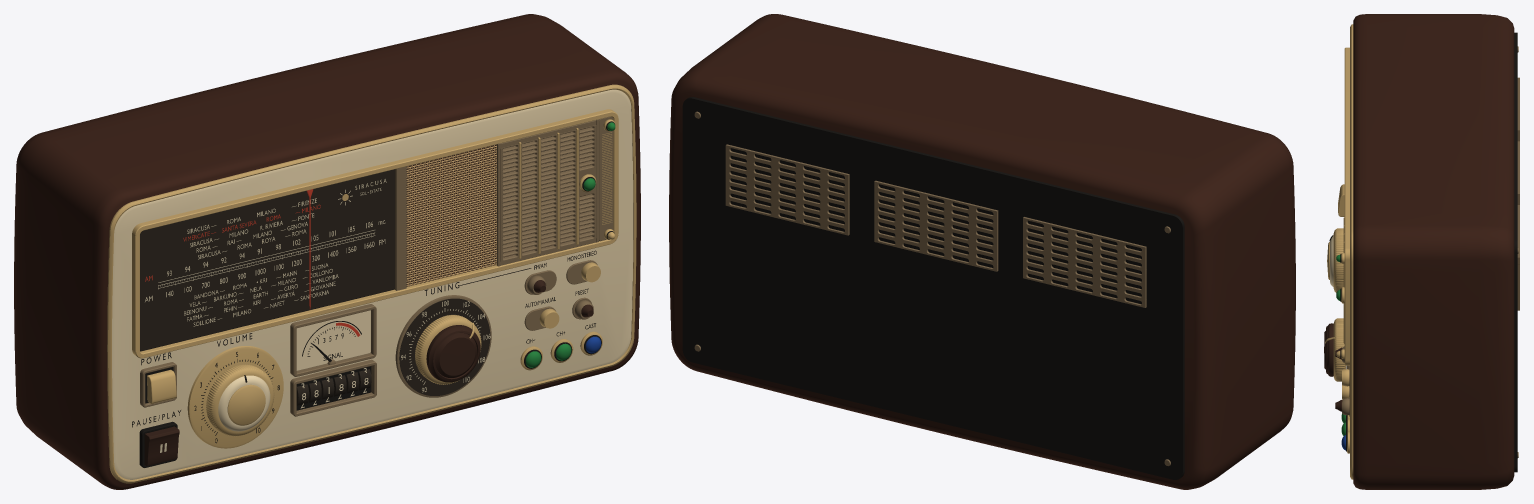
The model's file is radio-v50-parts.glb.
3 views of the same model, side by side, from view 1: azimuth 30°, elevation 25°; view 2: azimuth 150°, elevation 25°; view 3: azimuth 270°, elevation 25° (orthographic). The views are drawn at different scales.
Parts seen in each view (by area): view 1: Arched walnut enclosure_export, Cream escutcheon_export, Frequency chart_export, Receiver window surround_export, Rolled cabinet piping_export, Speaker textile warp_export, Speaker textile weft_export, Linen backing_export, Volume scale collar_export, Cream dial ink faceplate typography_export, Frequency annulus_export, Signal meter dial_export (+20 smaller); view 2: Rear service cover_export, Arched walnut enclosure_export, Rear ventilation bank 3_export, Rear ventilation bank 2_export, Rear ventilation bank 1_export; view 3: Arched walnut enclosure_export, Receiver window surround_export, Rolled cabinet piping_export, Rear service cover_export, Volume fluted grip_export, Tuning fluted grip_export, Molded concentric tuning knob_export, Rear ventilation bank 3_export.
Boxes of the visible parts, x1,y1,x2,y2 form: Arched walnut enclosure_export: [14, 14, 640, 489]; Cream escutcheon_export: [112, 89, 633, 479]; Frequency chart_export: [140, 169, 394, 350]; Receiver window surround_export: [132, 109, 618, 358]; Rolled cabinet piping_export: [107, 84, 636, 483]; Speaker textile warp_export: [407, 144, 496, 286]; Speaker textile weft_export: [406, 144, 496, 285]; Linen backing_export: [406, 145, 495, 286]; Volume scale collar_export: [187, 346, 283, 448]; Cream dial ink faceplate typography_export: [145, 179, 490, 408]; Frequency annulus_export: [399, 298, 490, 395]; Signal meter dial_export: [296, 310, 370, 370]; Rear service cover_export: [682, 97, 1184, 479]; Arched walnut enclosure_export: [669, 14, 1295, 489]; Rear ventilation bank 3_export: [725, 144, 849, 235]; Rear ventilation bank 2_export: [874, 180, 998, 271]; Rear ventilation bank 1_export: [1023, 217, 1146, 307]; Arched walnut enclosure_export: [1353, 14, 1514, 489]; Receiver window surround_export: [1344, 47, 1349, 365]; Rolled cabinet piping_export: [1350, 24, 1353, 479]; Rear service cover_export: [1514, 32, 1517, 472]; Volume fluted grip_export: [1333, 228, 1343, 292]; Tuning fluted grip_export: [1333, 318, 1346, 381]; Molded concentric tuning knob_export: [1324, 323, 1333, 376]; Rear ventilation bank 3_export: [1517, 205, 1519, 310].
Bounding box in the file's own units: 0.4852 × 0.2581 × 0.1716.
